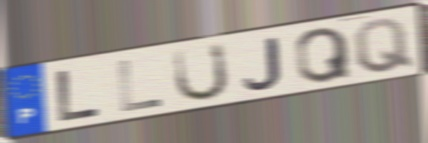J: (241, 35, 284, 91)
L: (54, 67, 104, 124), (116, 58, 165, 114)
Q: (351, 17, 417, 76), (293, 25, 354, 85)
U: (171, 41, 231, 104)
